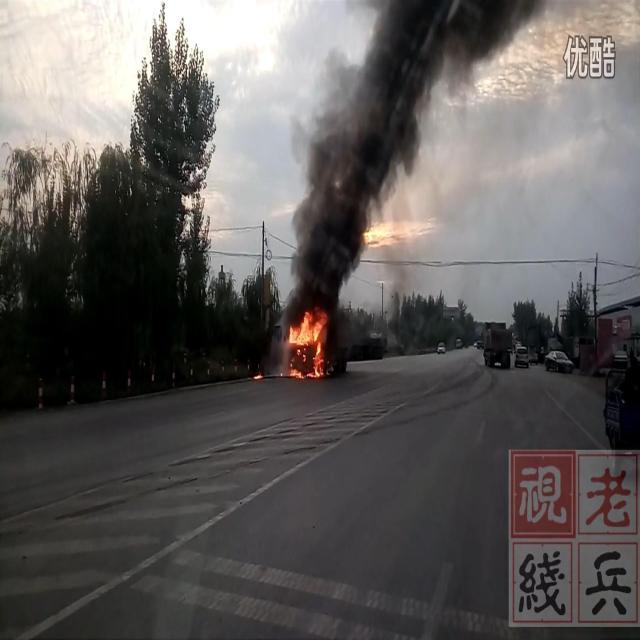Fire: (283, 300, 332, 383)
Smoke: (278, 0, 547, 298)
